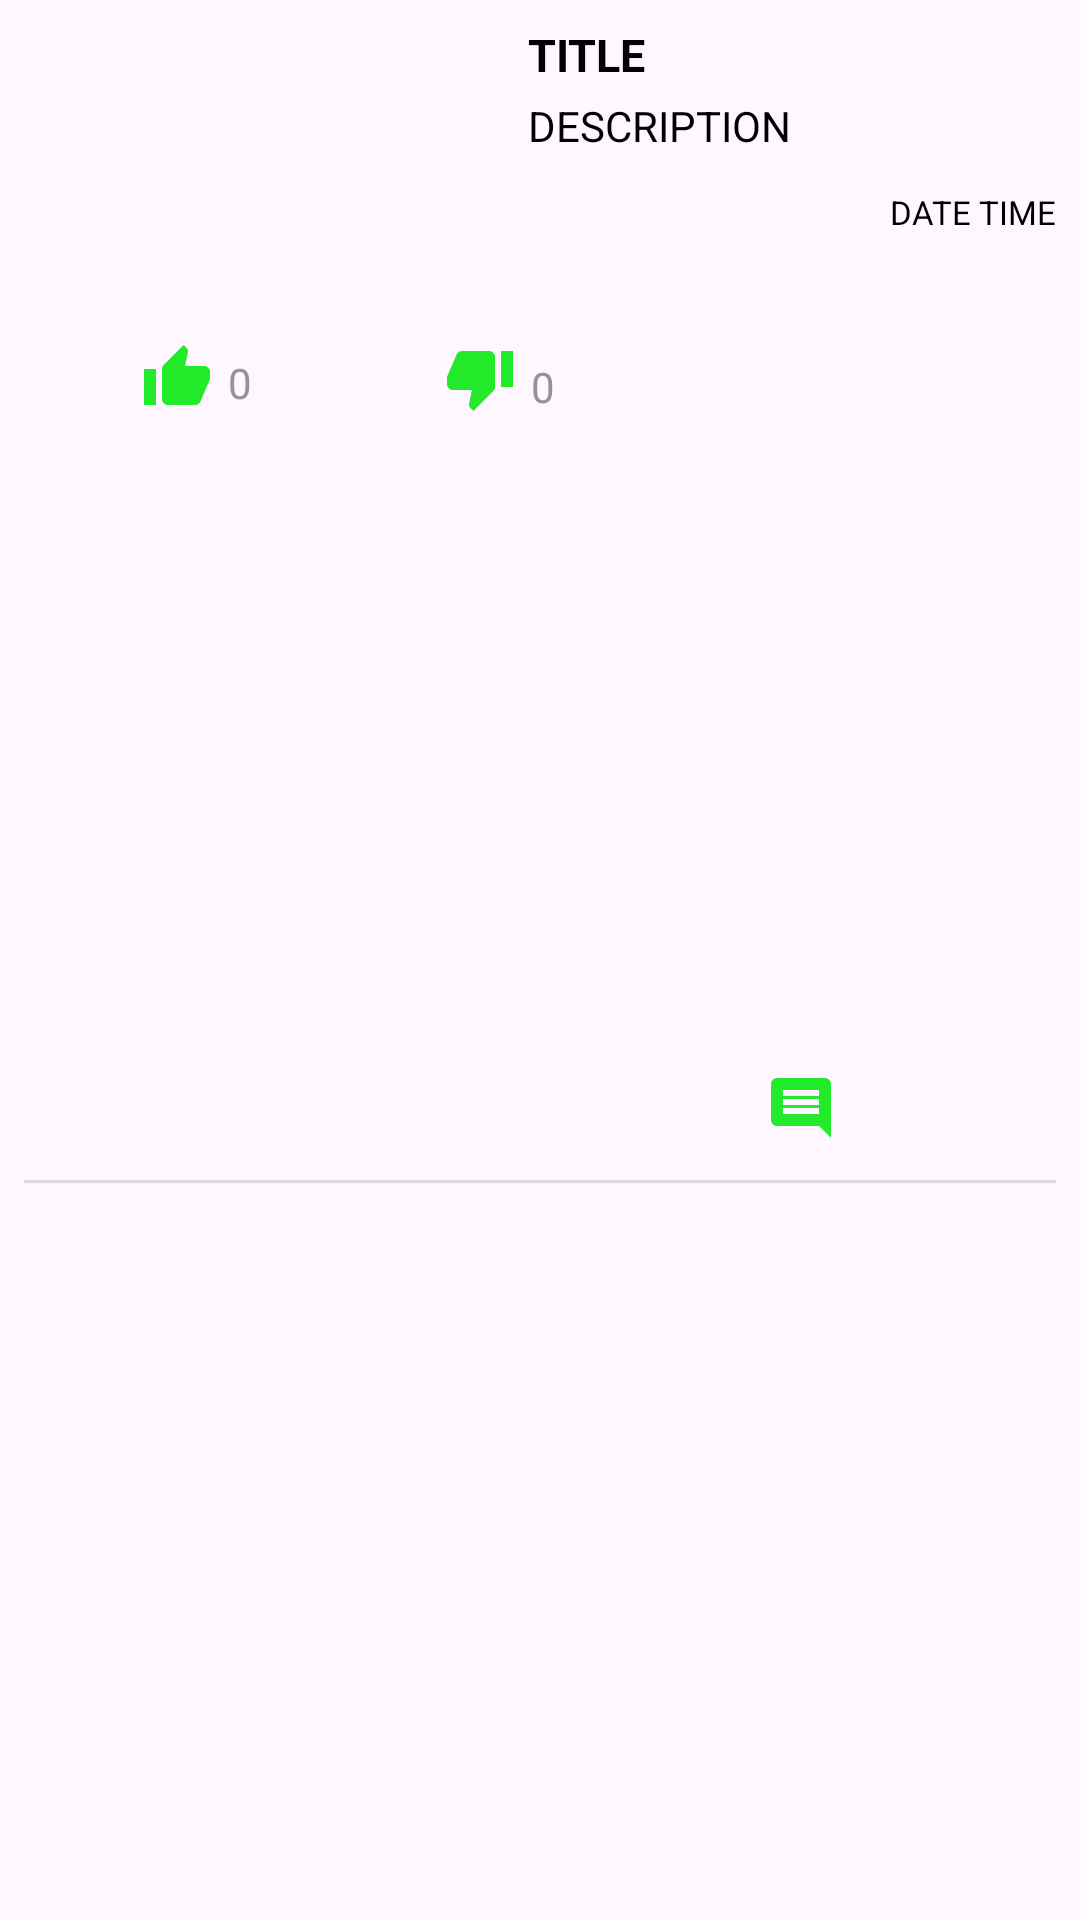

Screen size 1080w x 1920h. Icon name, then its box in pixels as (x1, y1, x2, y2):
comment: (771, 1078, 831, 1138)
thumb down: (447, 351, 513, 411)
thumb up: (144, 345, 210, 405)
